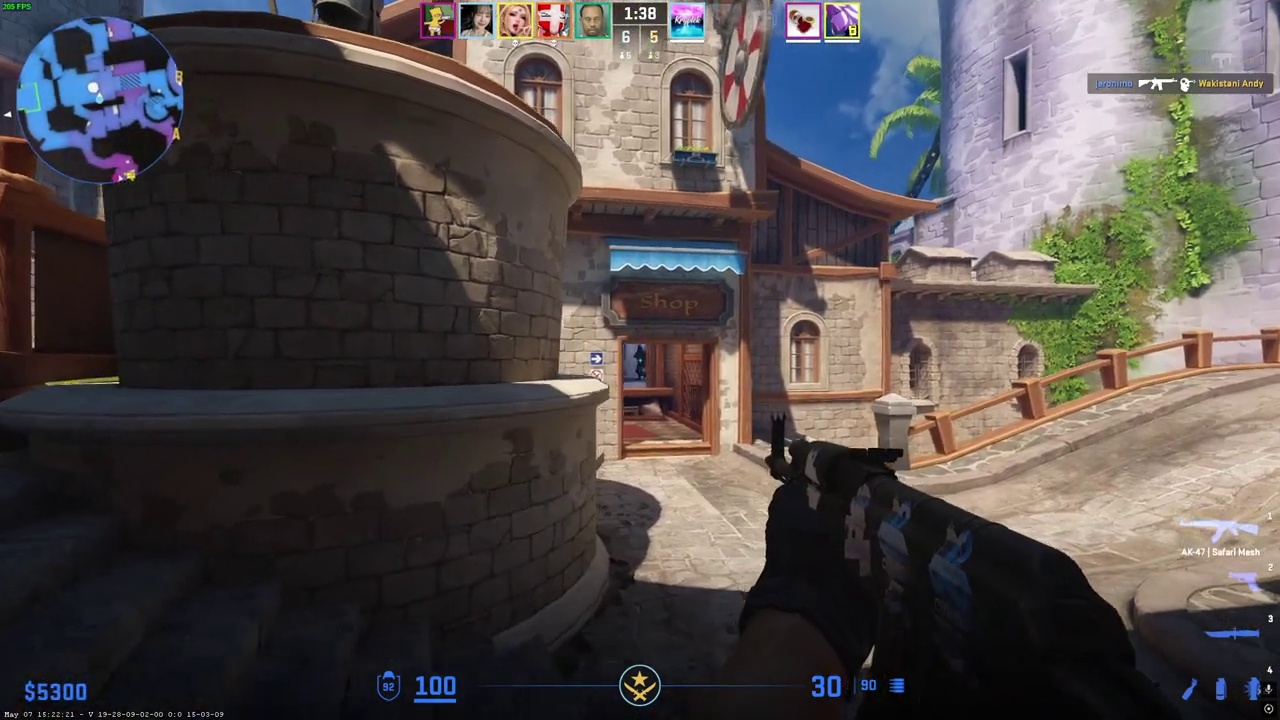CT: (633, 345, 647, 381)
